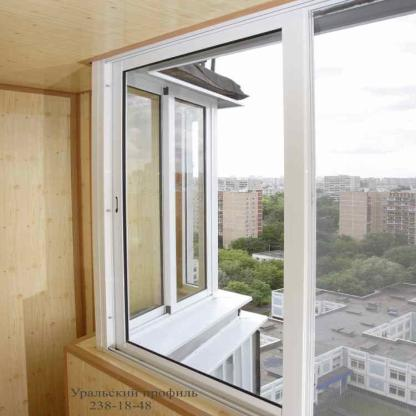Window: (97, 17, 283, 405), (315, 1, 416, 416)
